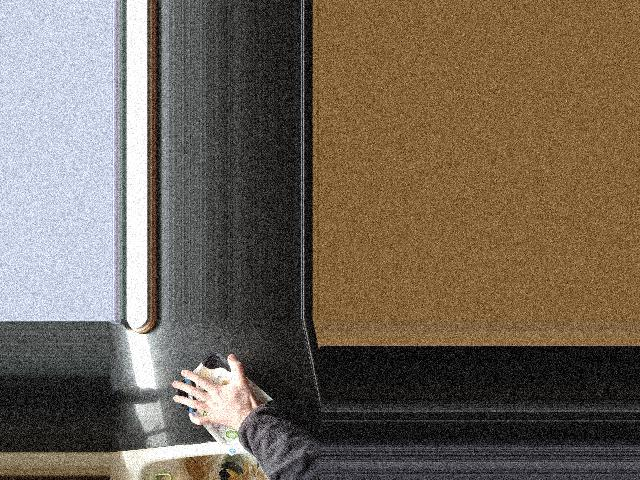cheese: (173, 351, 280, 459)
